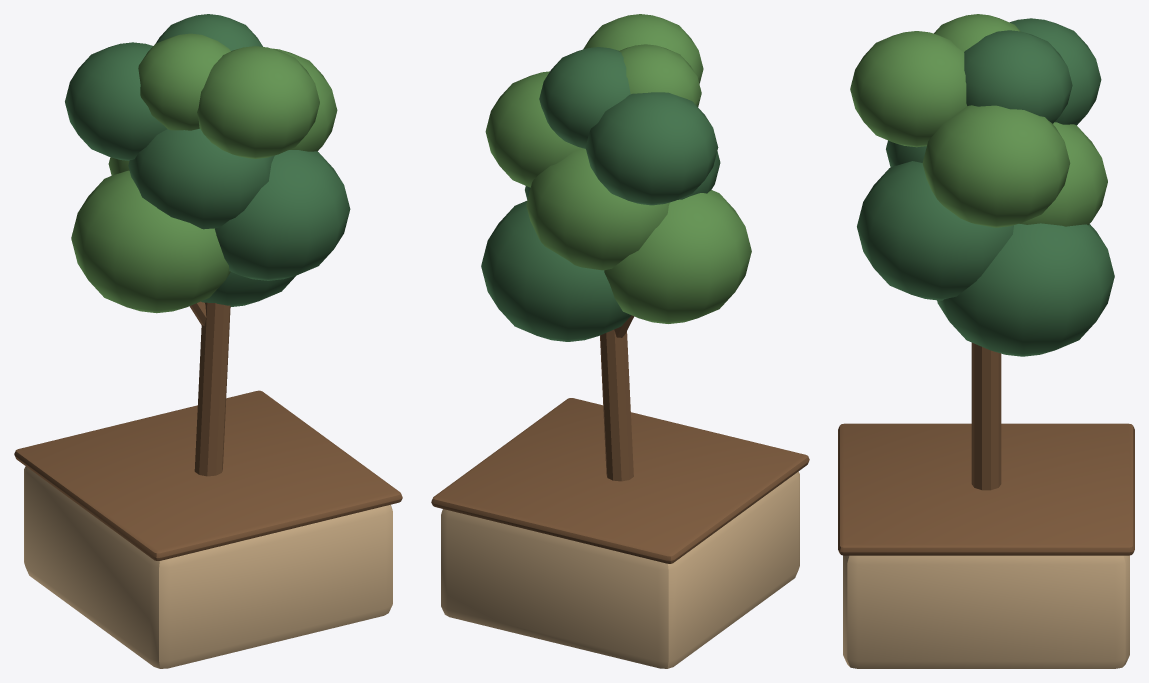
Rendered from tree_planter.glb.
The picture shows the model from 3 angles, left to right: view 1: azimuth 30°, elevation 25°; view 2: azimuth 150°, elevation 25°; view 3: azimuth 270°, elevation 25°; orthographic projection. The views are drawn at different scales.
Parts seen in each view (by area): view 1: FURN-tree_planter; view 2: FURN-tree_planter; view 3: FURN-tree_planter.
Boxes of the visible parts, x1=… form: FURN-tree_planter: x1=14, y1=14, x2=402, y2=668; FURN-tree_planter: x1=431, y1=14, x2=809, y2=668; FURN-tree_planter: x1=838, y1=14, x2=1134, y2=668.
Size of the model in its own units: 1.2 by 2.6 by 1.2.
